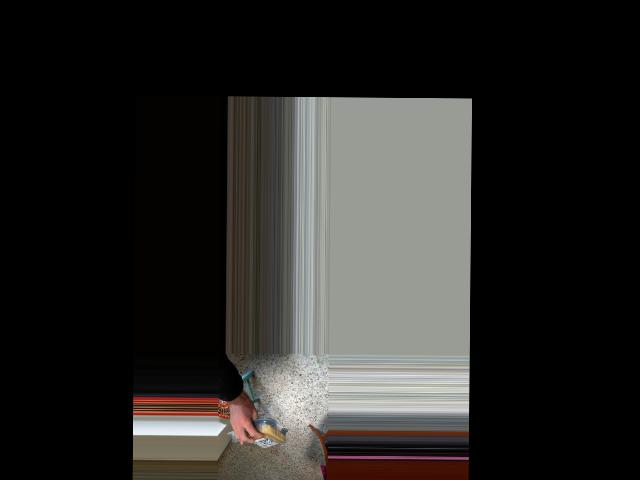cheese: (235, 421, 287, 448)
